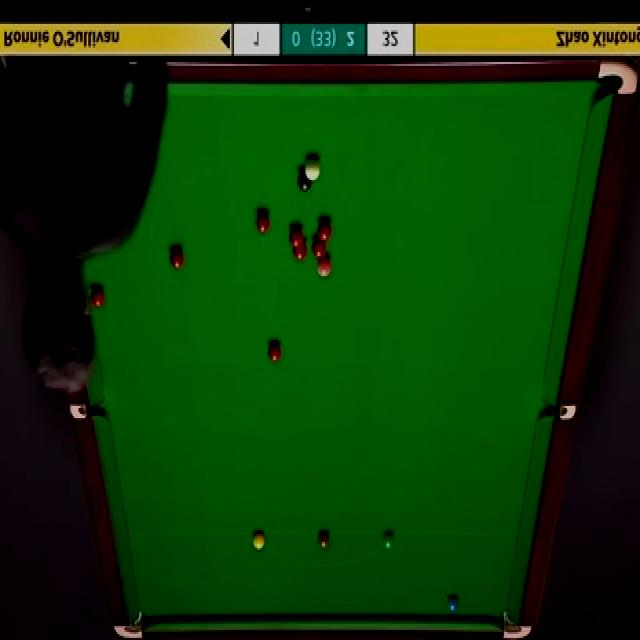pocket: (597, 59, 638, 99), (502, 610, 532, 639), (116, 612, 142, 639), (540, 401, 576, 420), (72, 398, 104, 419)
